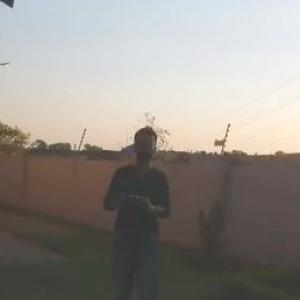follow: (99, 124, 178, 299)
